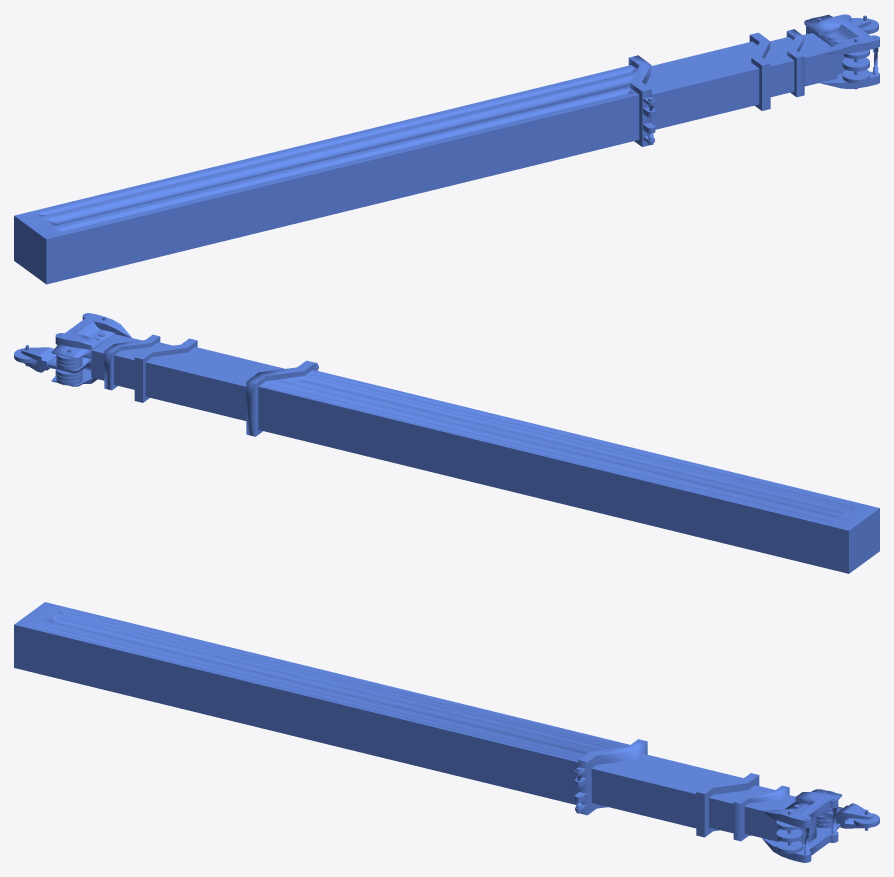
The model's file is Boom_Extension.glb.
3 views of the same model, one above another, from view 1: azimuth 30°, elevation 25°; view 2: azimuth 150°, elevation 25°; view 3: azimuth 330°, elevation 25° (orthographic). The views are drawn at different scales.
Visible parts, largest first — view 1: Boom_B; view 2: Boom_B; view 3: Boom_B.
Part boxes in pixels (x1=…): Boom_B: x1=14, y1=14, x2=879, y2=284; Boom_B: x1=14, y1=313, x2=879, y2=573; Boom_B: x1=14, y1=602, x2=879, y2=862.
Size of the model in its own units: 17.1 by 1.05 by 1.82.
